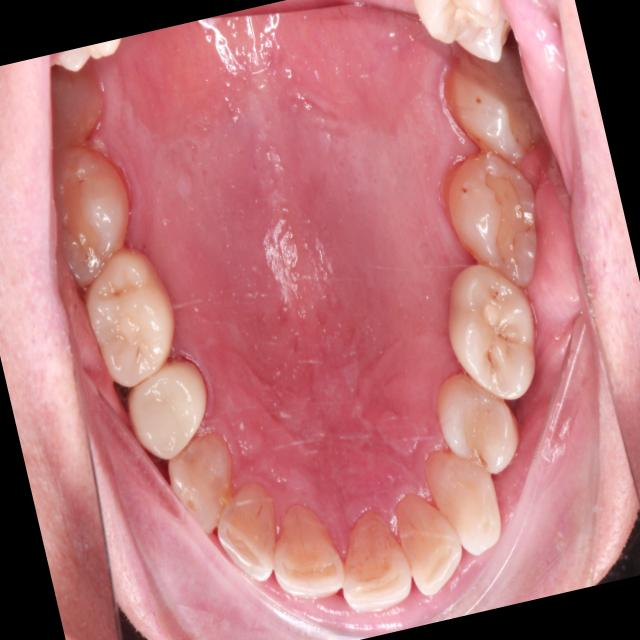tooth: (25, 123, 161, 309), (426, 230, 559, 415), (427, 128, 558, 304), (69, 231, 201, 405), (419, 342, 545, 495), (431, 26, 555, 181), (252, 479, 369, 625), (412, 426, 521, 574), (108, 351, 232, 474), (319, 488, 427, 628), (144, 421, 257, 551), (376, 476, 476, 607), (207, 470, 296, 598), (23, 62, 122, 156)
